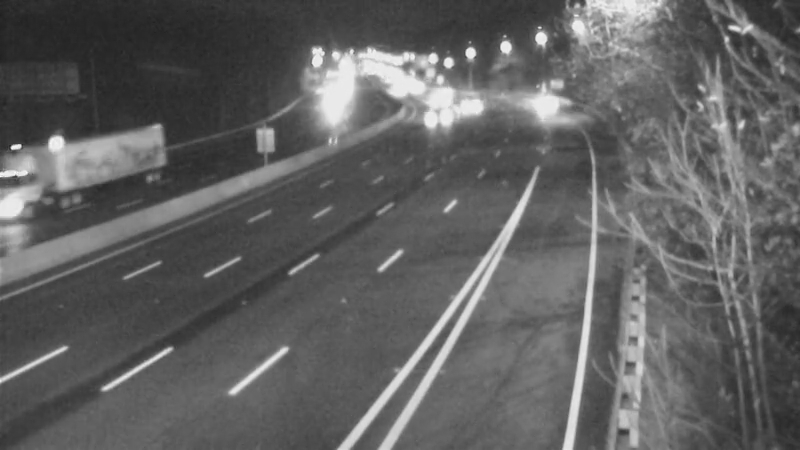vehicle: (1, 161, 72, 241), (414, 65, 464, 115), (510, 82, 560, 132), (409, 71, 459, 121), (438, 75, 488, 125), (403, 92, 453, 142)
